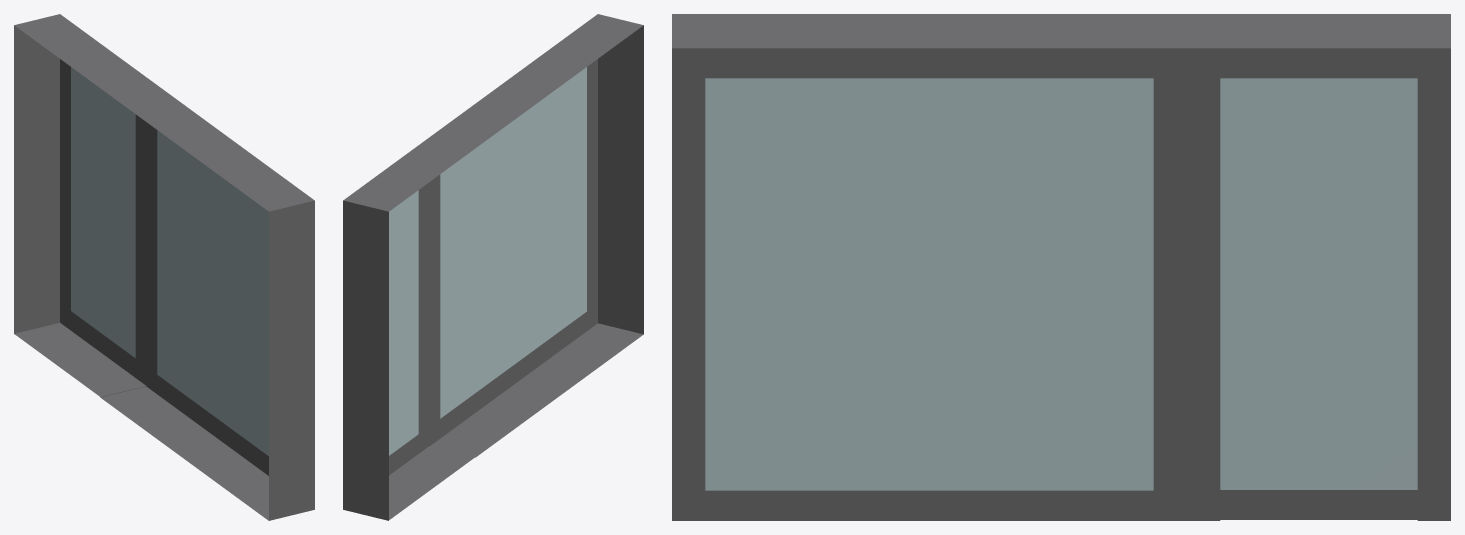
Rendered from Balcony windows on the side.fbx.
3 renders of one model, left to right at view 1: azimuth 30°, elevation 25°; view 2: azimuth 150°, elevation 25°; view 3: azimuth 270°, elevation 25°, orthographic. The views are drawn at different scales.
Parts seen in each view (by area): view 1: Fasad min.008; view 2: Fasad min.008; view 3: Fasad min.008.
Boxes of the visible parts, x1,y1,x2,y2 form: Fasad min.008: (14, 14, 314, 520); Fasad min.008: (343, 14, 643, 520); Fasad min.008: (672, 14, 1450, 520).
Size of the model in its own units: 54.79 by 352 by 526.
